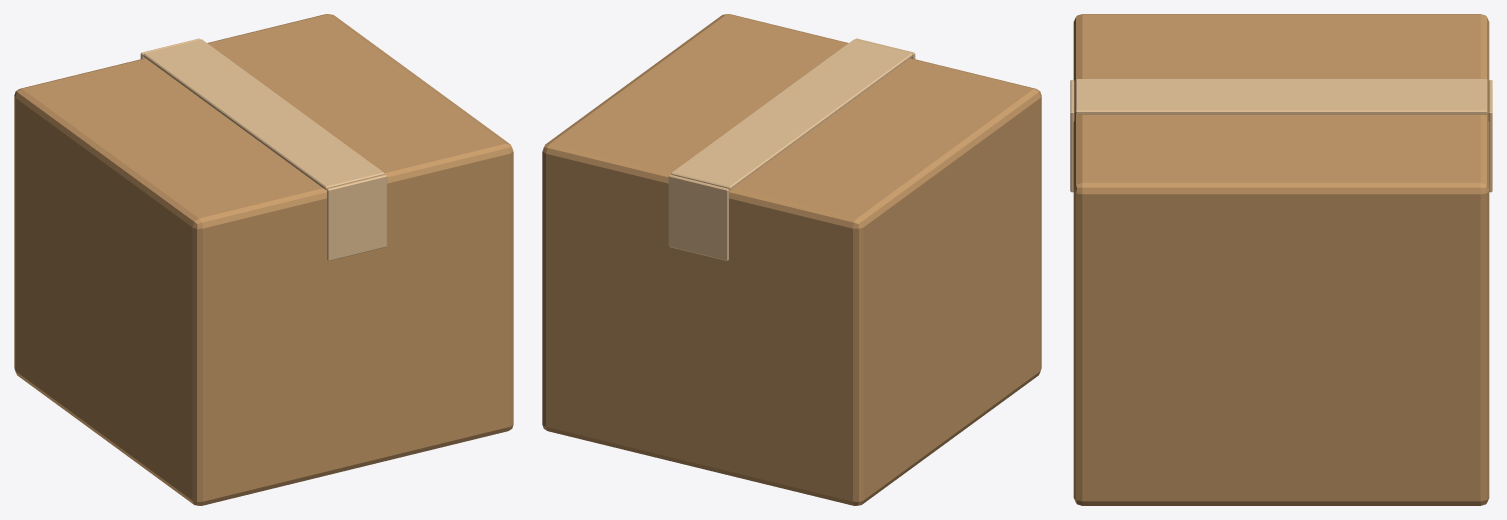
File: boxes.glb
3 renders of one model, left to right at view 1: azimuth 30°, elevation 25°; view 2: azimuth 150°, elevation 25°; view 3: azimuth 270°, elevation 25°, orthographic. The views are drawn at different scales.
Visible parts, largest first — view 1: boxes_box, boxes_tape_top, boxes_tape_end_-1; view 2: boxes_box, boxes_tape_top, boxes_tape_end_1; view 3: boxes_box, boxes_tape_top, boxes_tape_end_1, boxes_tape_end_-1.
Boxes of the visible parts, x1,y1,x2,y2 form: boxes_box: (14,14,513,505); boxes_tape_top: (143,39,384,190); boxes_tape_end_-1: (327,174,387,260); boxes_box: (542,14,1041,505); boxes_tape_top: (671,39,912,190); boxes_tape_end_1: (668,174,728,260); boxes_box: (1073,14,1489,505); boxes_tape_top: (1075,79,1487,114); boxes_tape_end_1: (1488,80,1492,192); boxes_tape_end_-1: (1070,80,1074,192).
Bounding box in the file's own units: 0.7 × 0.607 × 0.711.
